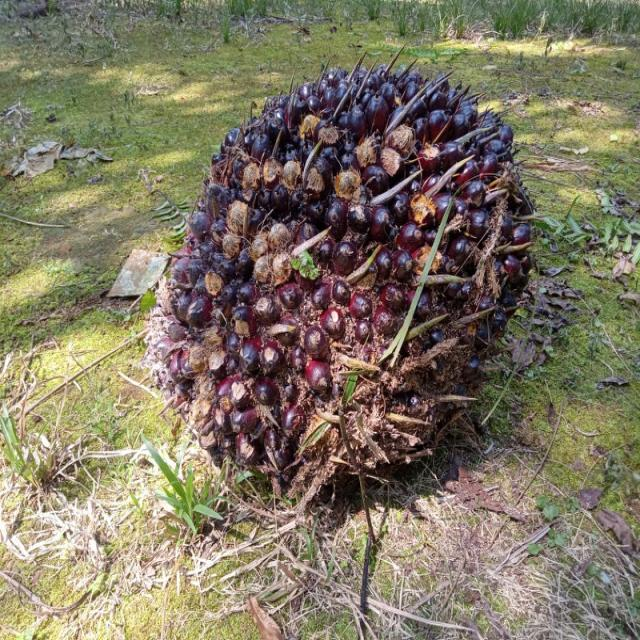fraksi 00: (182, 68, 532, 496)
